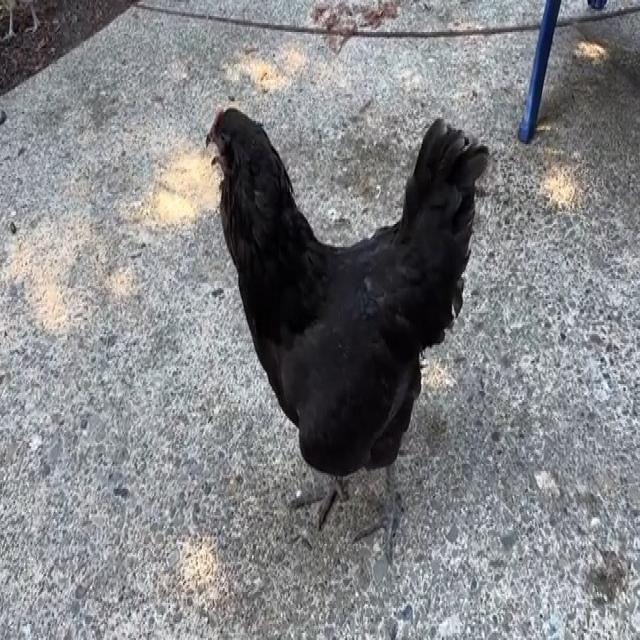Breathing: (204, 101, 489, 564)
